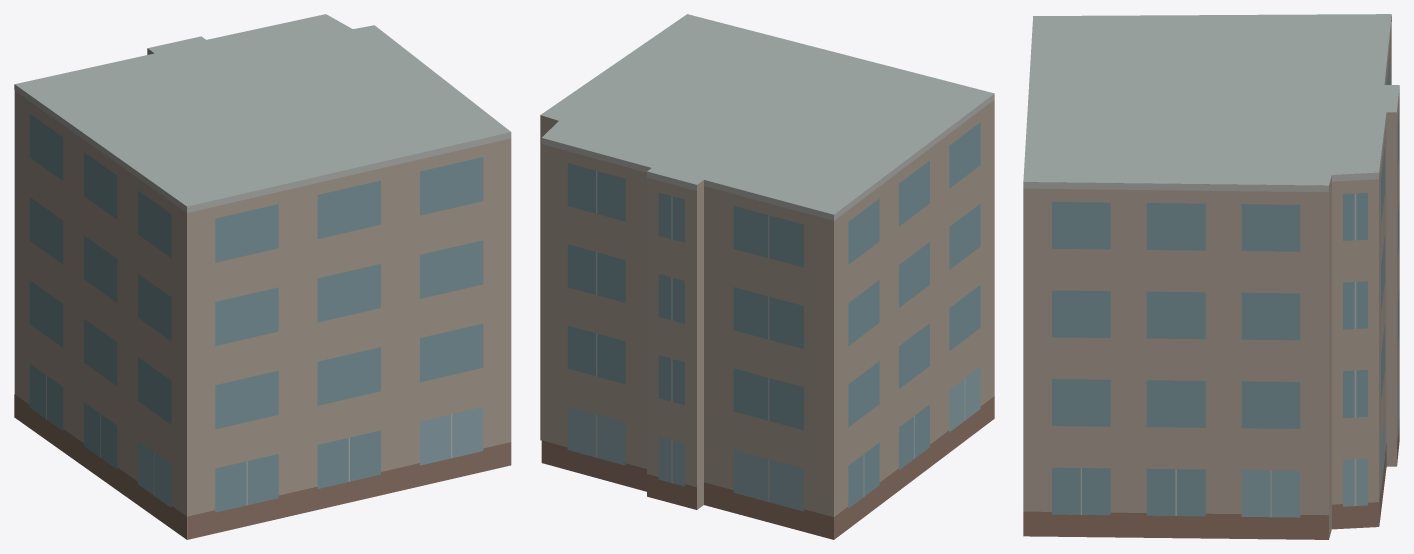
The model's file is survey-upis-32739812.glb.
3 renders of one model, left to right at view 1: azimuth 30°, elevation 25°; view 2: azimuth 150°, elevation 25°; view 3: azimuth 270°, elevation 25°, orthographic. The views are drawn at different scales.
Parts seen in each view (by area): view 1: survey-upis-32739812.tmp; view 2: survey-upis-32739812.tmp; view 3: survey-upis-32739812.tmp.
Boxes of the visible parts, x1=… form: survey-upis-32739812.tmp: x1=14, y1=14, x2=511, y2=539; survey-upis-32739812.tmp: x1=540, y1=14, x2=994, y2=539; survey-upis-32739812.tmp: x1=1023, y1=14, x2=1399, y2=539.
Size of the model in its own units: 13.45 by 12.95 by 12.47.
